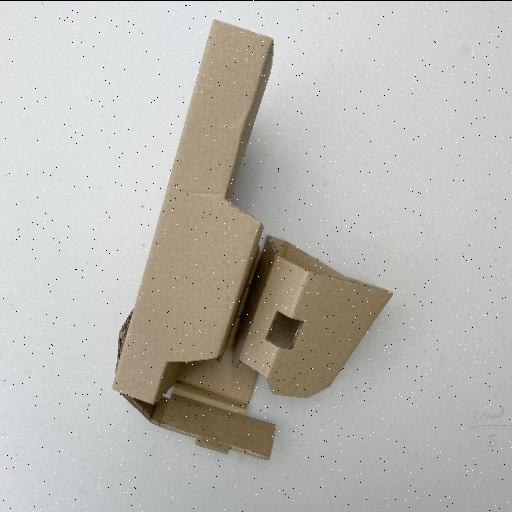Cardboard: (108, 17, 394, 461)
